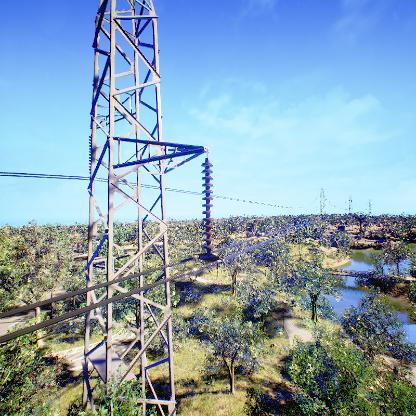insulator: (199, 159, 217, 254)
